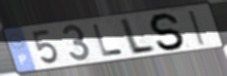3: (61, 23, 93, 65)
5: (30, 28, 60, 65)
I: (186, 9, 208, 47)
L: (119, 16, 157, 57), (91, 23, 125, 58)
S: (149, 12, 187, 52)
